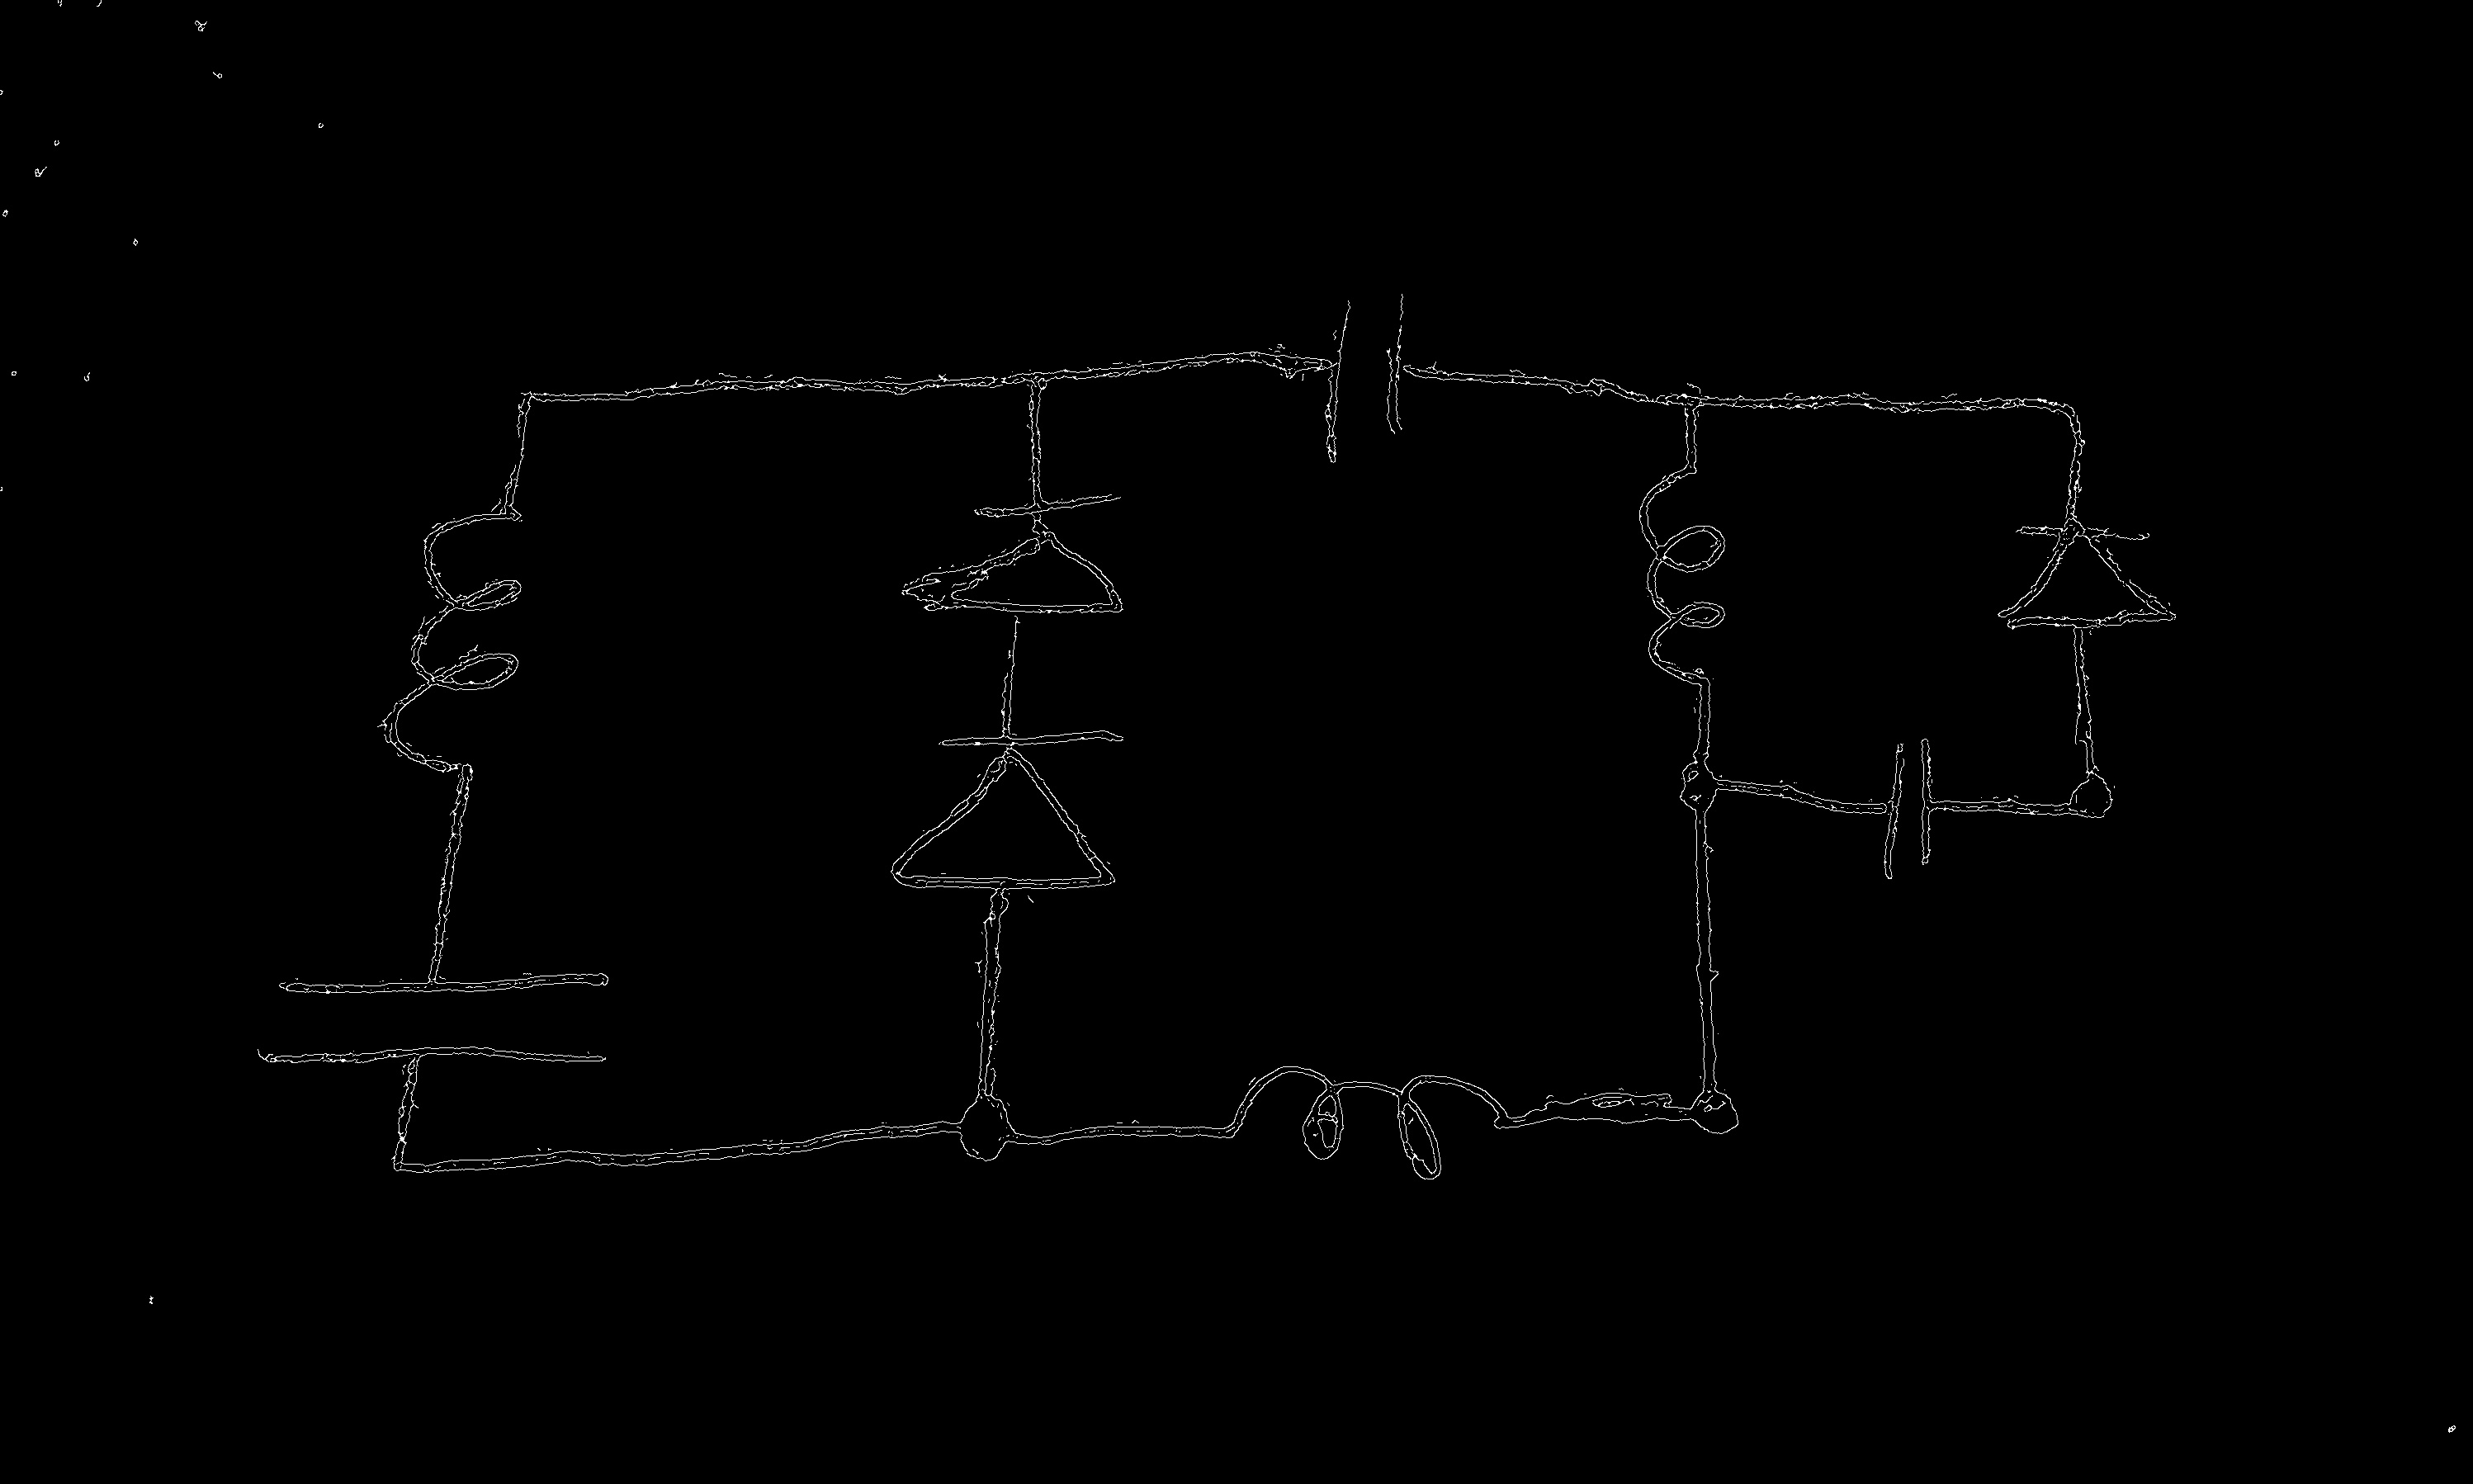capacitor: (259, 940, 615, 1113), (1270, 257, 1448, 478), (1851, 721, 1956, 891)
diode: (878, 703, 1142, 932), (885, 464, 1134, 655), (1984, 478, 2197, 659)
resistor: (378, 460, 543, 849), (1180, 1048, 1582, 1189), (1627, 433, 1733, 733)
